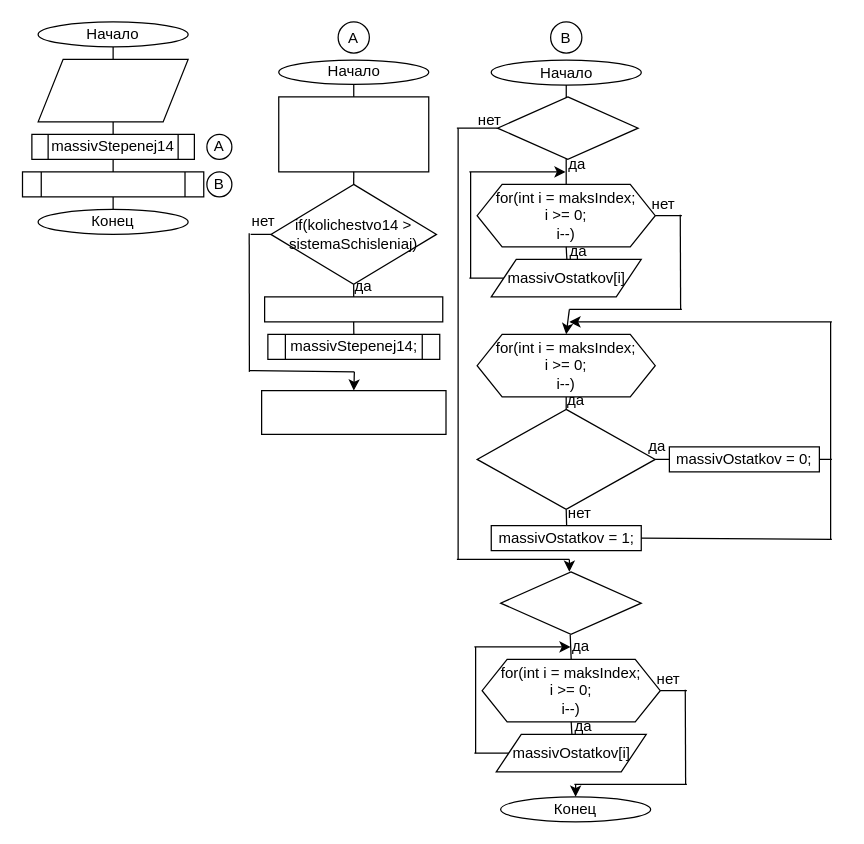
This 864x844 diagram has some shape labels left out. Here are the shapes that lost their labels. From the top down, the centre of each, then its label:
At point 112,90: "desyatichnoe; massivOstatkov; maksIndex;".
At point 353,134: "sistemaSchisleniaj; kolichestvo14; ostatokOt14; massivOstatkov;".
At point 567,127: "if(desytichnoe < 0)".
At point 112,184: "perevod(desyatichoe)".
At point 353,309: "*maksIndexMassiva += 1;".
At point 353,411: "*maksIndexMassiva += 1; massivOstatkov;".
At point 565,458: "if(massivOstatkov == 1)".
At point 570,602: "if(desytichnoe > 0)".
